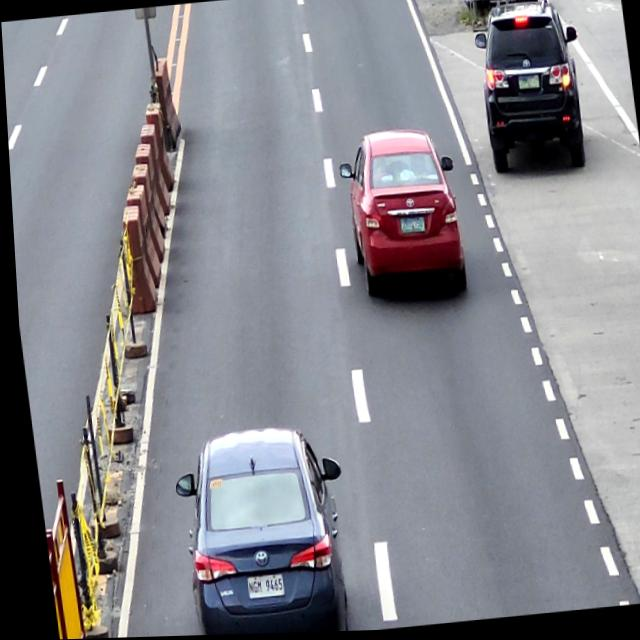Car: (163, 421, 352, 637), (332, 126, 469, 308), (470, 0, 591, 181)
License-Plate: (238, 575, 277, 600), (396, 219, 423, 236), (516, 76, 539, 93)
